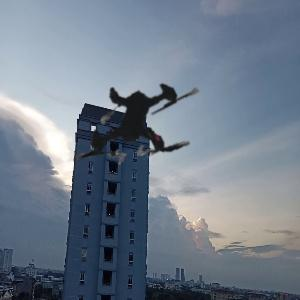drone: (40, 28, 236, 224)
